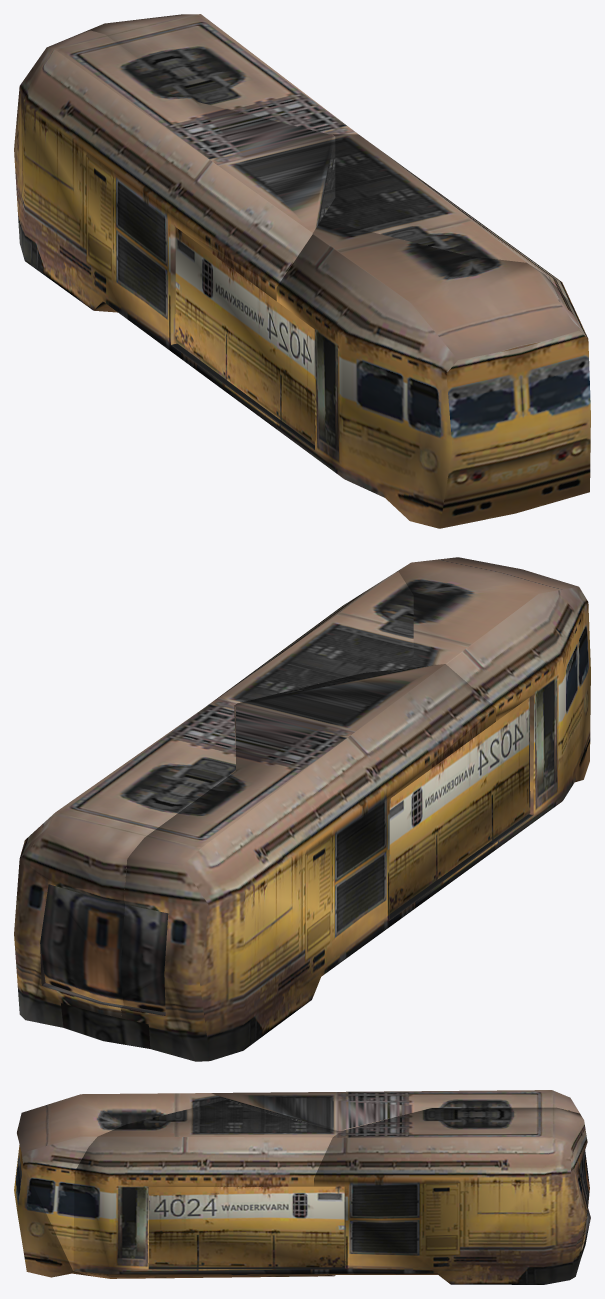
The model's file is W13_Train_Brake.fbx.
3 views of the same model, one above another, from view 1: azimuth 30°, elevation 25°; view 2: azimuth 150°, elevation 25°; view 3: azimuth 270°, elevation 25° (orthographic). The views are drawn at different scales.
Visible parts, largest first — view 1: Train.004, Train.002, Train.023, Train.001, Train.003; view 2: Train.002, Train.001, Train.004, Train.023, Train.003; view 3: Train.001, Train.003, Train.009, Train.004, Train.002.
Part boxes in pixels (x1,y1,x2,y2): Train.004: (276, 219, 590, 528); Train.002: (14, 30, 335, 429); Train.023: (175, 227, 314, 445); Train.001: (88, 14, 358, 134); Train.003: (321, 134, 572, 304); Train.002: (120, 664, 495, 1061); Train.001: (14, 696, 235, 1044); Train.004: (395, 557, 590, 849); Train.023: (389, 697, 530, 914); Train.003: (208, 571, 413, 705); Train.001: (314, 1107, 590, 1284); Train.003: (73, 1099, 340, 1278); Train.009: (149, 1186, 344, 1267); Train.004: (14, 1093, 226, 1277); Train.002: (211, 1090, 588, 1247).
Size of the model in its own units: 369 by 335 by 1236.
